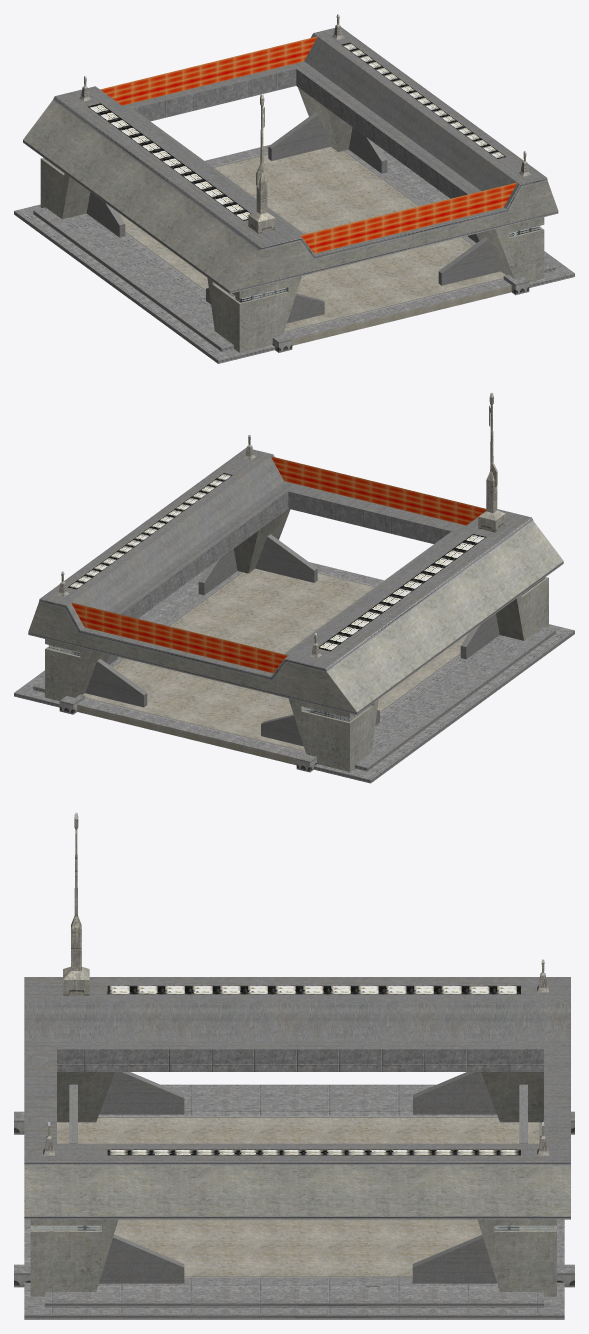
The model's file is mun_all_shuttleport_s01_l1.fbx.
3 views of the same model, one above another, from view 1: azimuth 30°, elevation 25°; view 2: azimuth 150°, elevation 25°; view 3: azimuth 270°, elevation 25° (orthographic). The views are drawn at different scales.
Parts seen in each view (by area): view 1: mesh_node; view 2: mesh_node; view 3: mesh_node.
Boxes of the visible parts, left/top/right/bottom form: mesh_node: left=14, top=14, right=574, bottom=363; mesh_node: left=14, top=392, right=574, bottom=783; mesh_node: left=14, top=812, right=574, bottom=1319.
Size of the model in its own units: 31.47 by 20.21 by 32.4.
